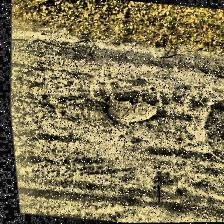pothole: (94, 90, 162, 130)
